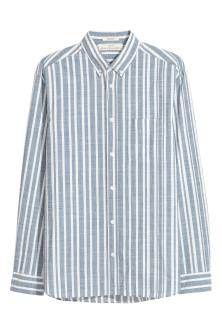teeshirt: (18, 28, 215, 308)
